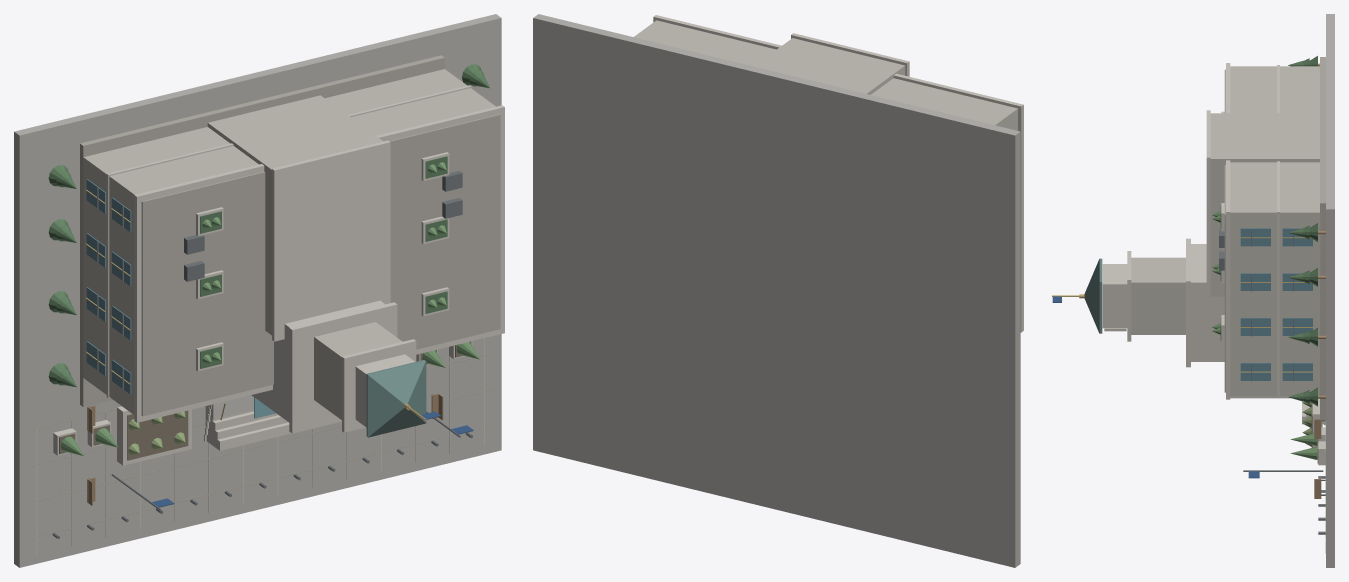
Rendered from Mayor_City_Hall.glb.
3 views of the same model, side by side, from view 1: azimuth 30°, elevation 25°; view 2: azimuth 150°, elevation 25°; view 3: azimuth 270°, elevation 25° (orthographic). The views are drawn at different scales.
Visible parts, largest first — view 1: 0000_Site_plaza_base, 0022_Wing_roof_cap, 0106_Wing_roof_cap, 0189_Rear_roof_top, 0020_Civic_wing_body, 0188_Central_mid_wing, 0001_Building_foundation, 0104_Civic_wing_body, 0191_Central_monument_top_cornice, 0202_Tower_pitched_roof, 0021_Wing_top_cornice, 0192_Clock_tower (+12 smaller); view 2: 0000_Site_plaza_base, 0188_Central_mid_wing, 0020_Civic_wing_body, 0104_Civic_wing_body, 0021_Wing_top_cornice, 0105_Wing_top_cornice, 0189_Rear_roof_top; view 3: 0104_Civic_wing_body, 0188_Central_mid_wing, 0000_Site_plaza_base, 0192_Clock_tower, 0020_Civic_wing_body, 0190_Center_monument, 0001_Building_foundation, 0194_Tower_pavilion, 0105_Wing_top_cornice, 0189_Rear_roof_top, 0107_Wing_floor_stringcourse, 0202_Tower_pitched_roof (+11 smaller).
Part boxes in pixels (x1=…): 0000_Site_plaza_base: x1=14, y1=14, x2=501, y2=567; 0022_Wing_roof_cap: x1=141, y1=171, x2=273, y2=416; 0106_Wing_roof_cap: x1=389, y1=114, x2=500, y2=349; 0189_Rear_roof_top: x1=272, y1=140, x2=390, y2=341; 0020_Civic_wing_body: x1=83, y1=127, x2=258, y2=414; 0188_Central_mid_wing: x1=207, y1=95, x2=383, y2=335; 0001_Building_foundation: x1=80, y1=55, x2=444, y2=406; 0104_Civic_wing_body: x1=325, y1=69, x2=495, y2=135; 0191_Central_monument_top_cornice: x1=289, y1=302, x2=397, y2=433; 0202_Tower_pitched_roof: x1=367, y1=360, x2=426, y2=437; 0021_Wing_top_cornice: x1=134, y1=164, x2=272, y2=422; 0192_Clock_tower: x1=314, y1=322, x2=402, y2=419; 0000_Site_plaza_base: x1=533, y1=14, x2=1020, y2=567; 0188_Central_mid_wing: x1=754, y1=38, x2=905, y2=94; 0020_Civic_wing_body: x1=871, y1=78, x2=1017, y2=130; 0104_Civic_wing_body: x1=634, y1=20, x2=776, y2=66; 0021_Wing_top_cornice: x1=893, y1=73, x2=1023, y2=332; 0105_Wing_top_cornice: x1=653, y1=15, x2=781, y2=49; 0189_Rear_roof_top: x1=791, y1=33, x2=909, y2=76; 0104_Civic_wing_body: x1=1230, y1=162, x2=1321, y2=395; 0188_Central_mid_wing: x1=1210, y1=113, x2=1319, y2=296; 0000_Site_plaza_base: x1=1326, y1=14, x2=1334, y2=567; 0192_Clock_tower: x1=1131, y1=257, x2=1185, y2=334; 0020_Civic_wing_body: x1=1230, y1=66, x2=1319, y2=113; 0190_Center_monument: x1=1191, y1=244, x2=1224, y2=361; 0001_Building_foundation: x1=1320, y1=57, x2=1325, y2=420; 0194_Tower_pavilion: x1=1102, y1=264, x2=1127, y2=328; 0105_Wing_top_cornice: x1=1226, y1=160, x2=1230, y2=399; 0189_Rear_roof_top: x1=1206, y1=110, x2=1210, y2=299; 0107_Wing_floor_stringcourse: x1=1277, y1=161, x2=1279, y2=397; 0202_Tower_pitched_roof: x1=1084, y1=259, x2=1099, y2=333.
Bounding box in the file's own units: 56 × 48 × 34.3.
